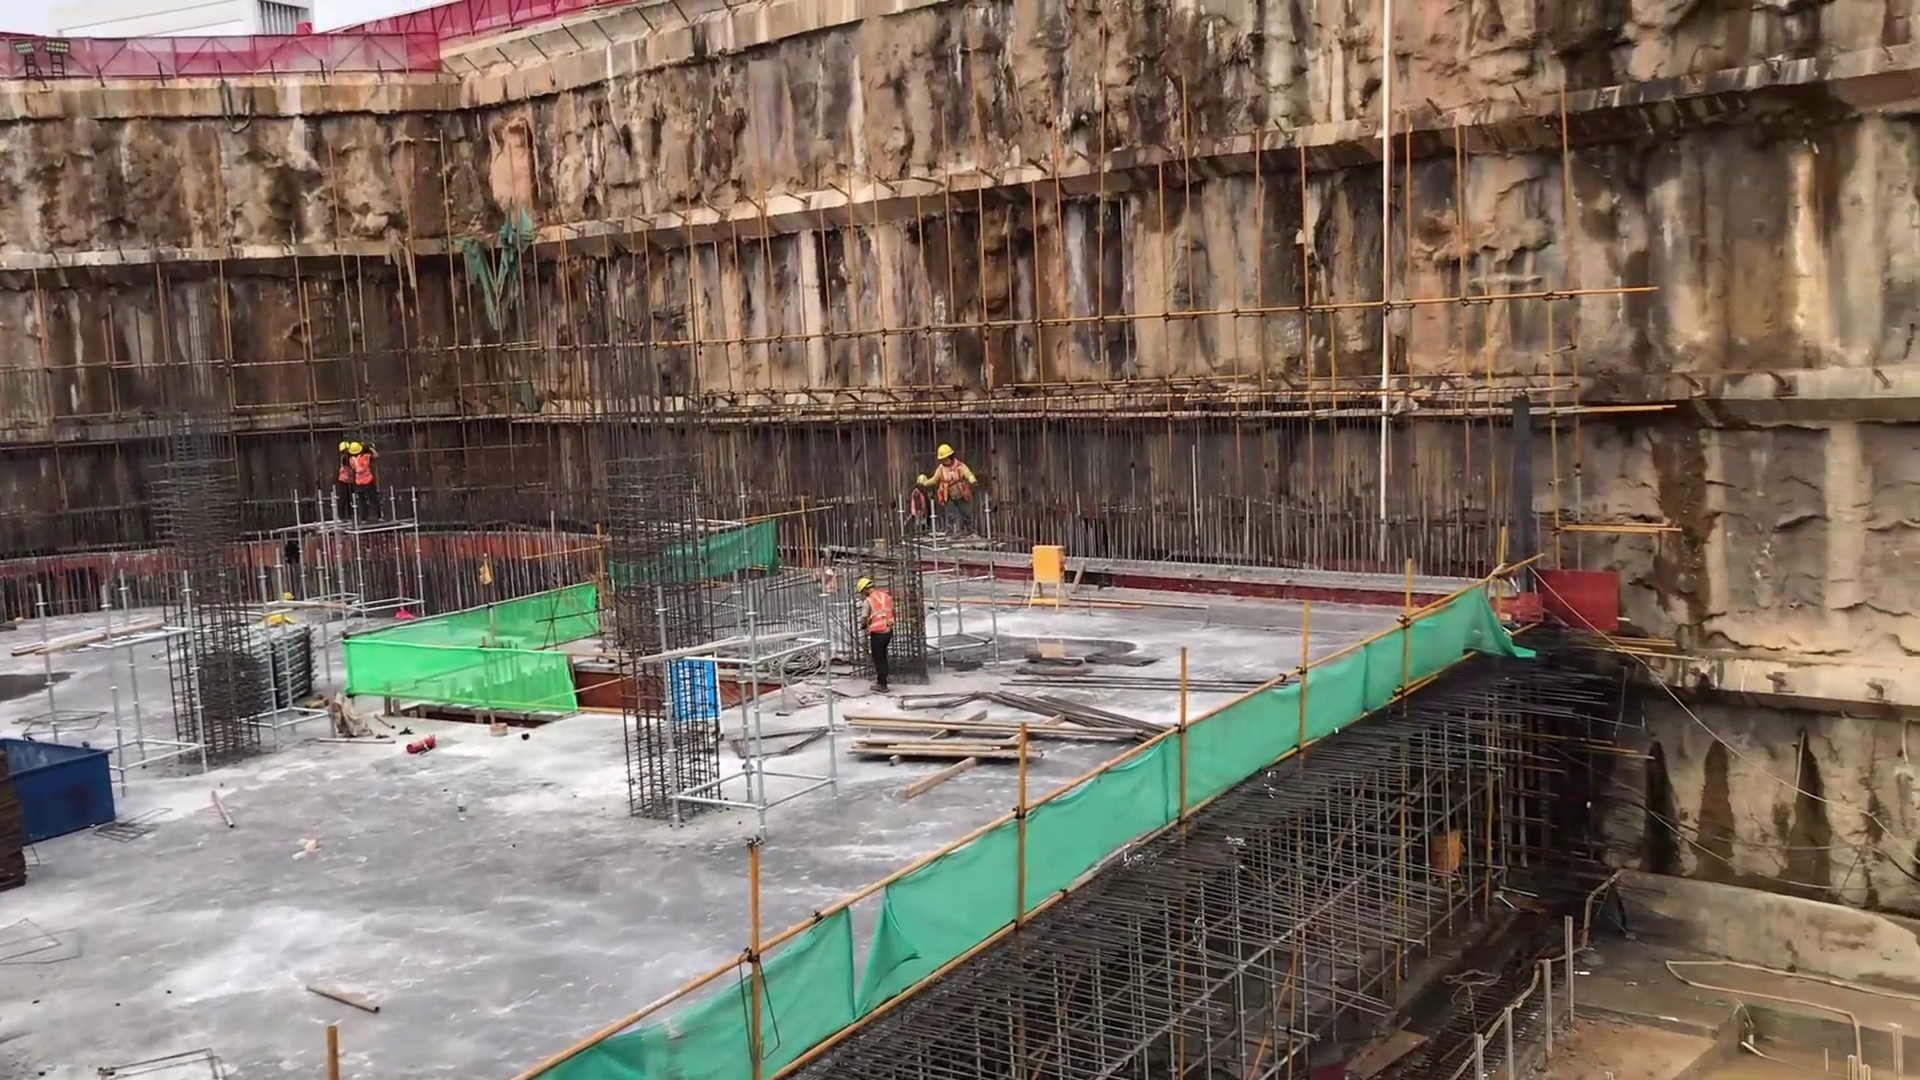ebox: (1020, 522, 1087, 620)
helmet: (936, 440, 958, 462), (855, 575, 870, 592), (348, 442, 364, 455), (335, 440, 351, 451), (916, 473, 928, 484)
hopper: (6, 717, 152, 893)
person: (847, 576, 906, 693), (921, 443, 989, 538), (348, 437, 387, 523), (331, 440, 353, 519)
vest: (853, 591, 900, 638), (929, 463, 979, 507), (352, 453, 377, 491), (906, 487, 929, 525), (333, 453, 353, 485)
